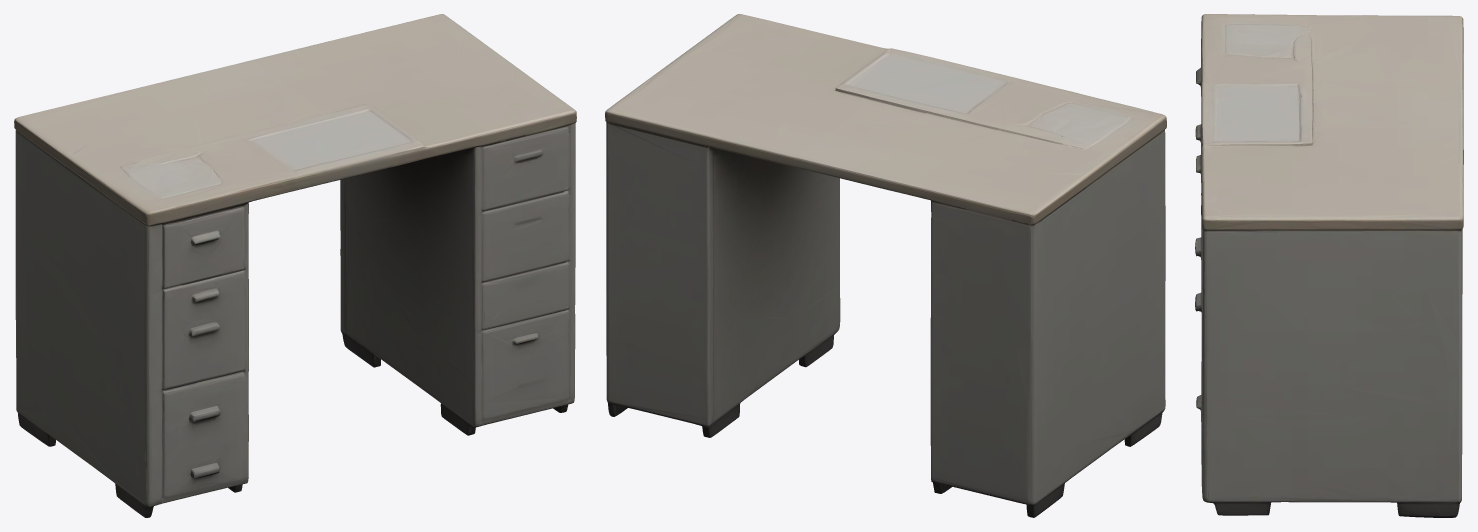
Rendered from desk_office_double_pedestal.glb.
The picture shows the model from 3 angles, left to right: view 1: azimuth 30°, elevation 25°; view 2: azimuth 150°, elevation 25°; view 3: azimuth 270°, elevation 25°; orthographic projection. The views are drawn at different scales.
Visible parts, largest first — view 1: geometry_0; view 2: geometry_0; view 3: geometry_0.
Part boxes in pixels (x1,y1,x2,y2): geometry_0: (14, 14, 576, 517); geometry_0: (605, 14, 1166, 517); geometry_0: (1195, 14, 1463, 517).
Size of the model in its own units: 1 by 0.6932 by 0.5557.
1 material, 1 textured.
